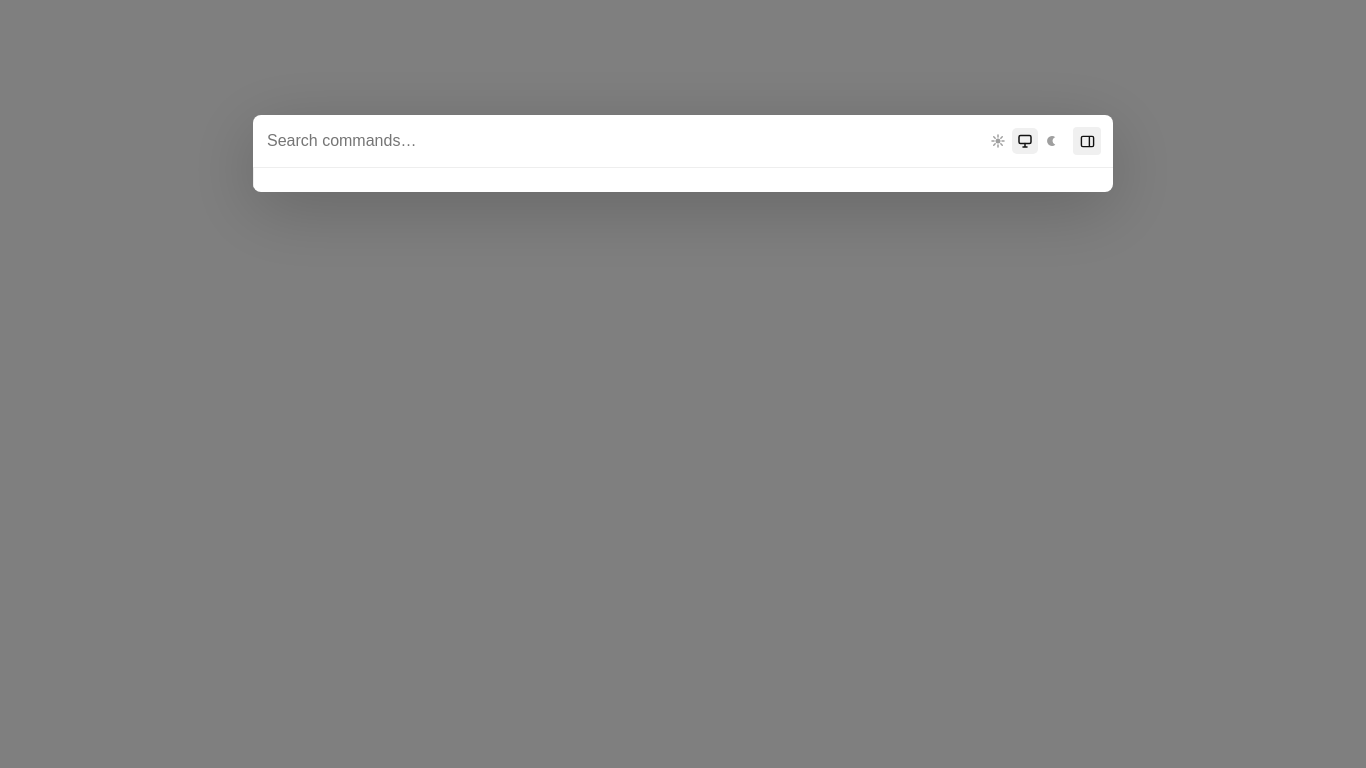
CommandPalette › renders command.info (HTML) in the preview pane
The image size is (1366, 768).
Type "alpha" into the dropdown with placeholder "Search commands…" at (621, 141), box [265, 131, 977, 151]
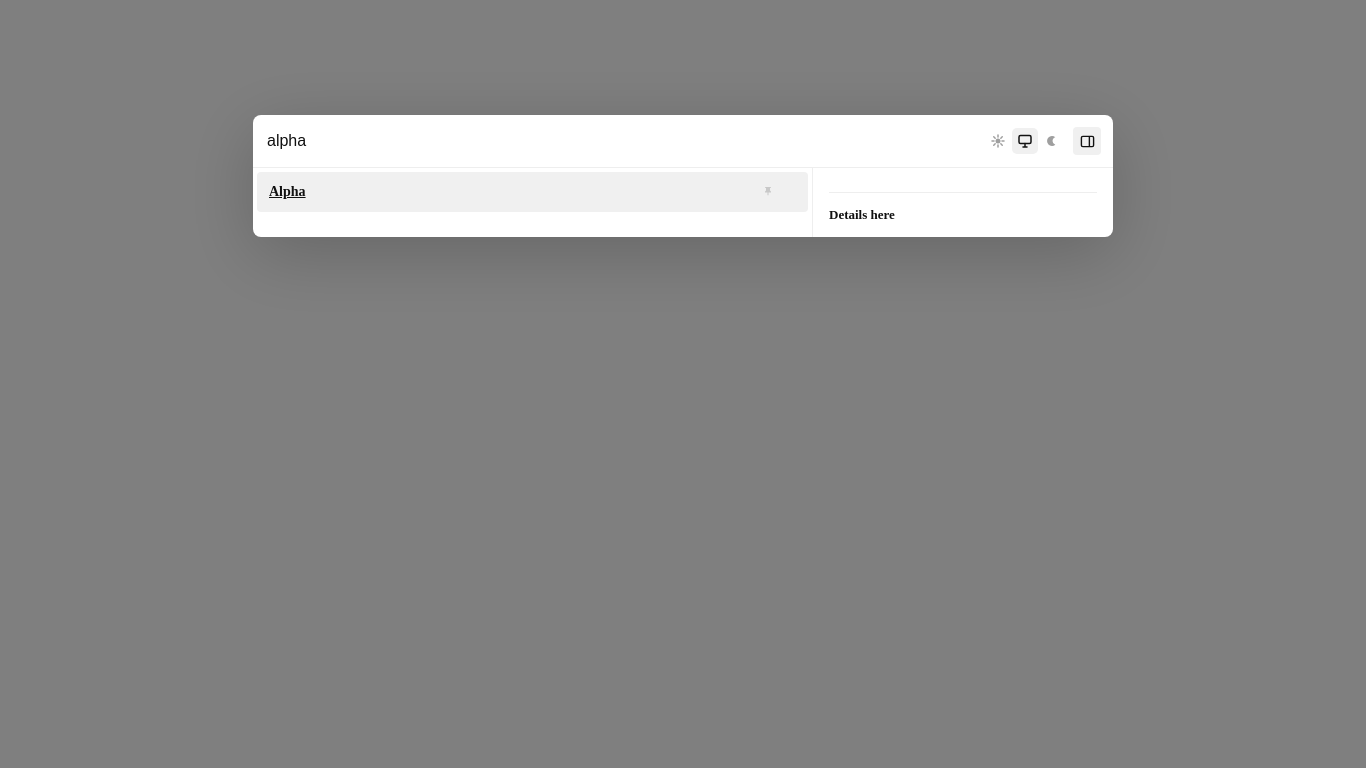
Expected: the element showing "Details here" is shown, [829, 192, 1097, 225]
Expected: the text "Details here" is shown, [829, 207, 895, 222]
